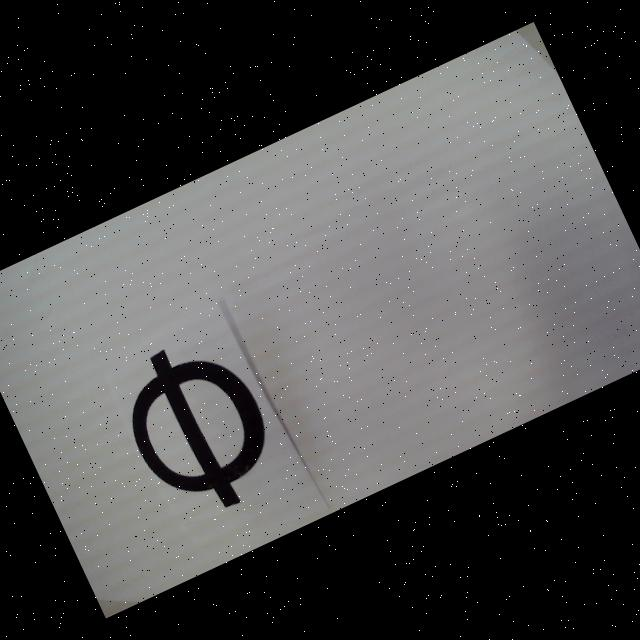PHI: (105, 322, 292, 532)
